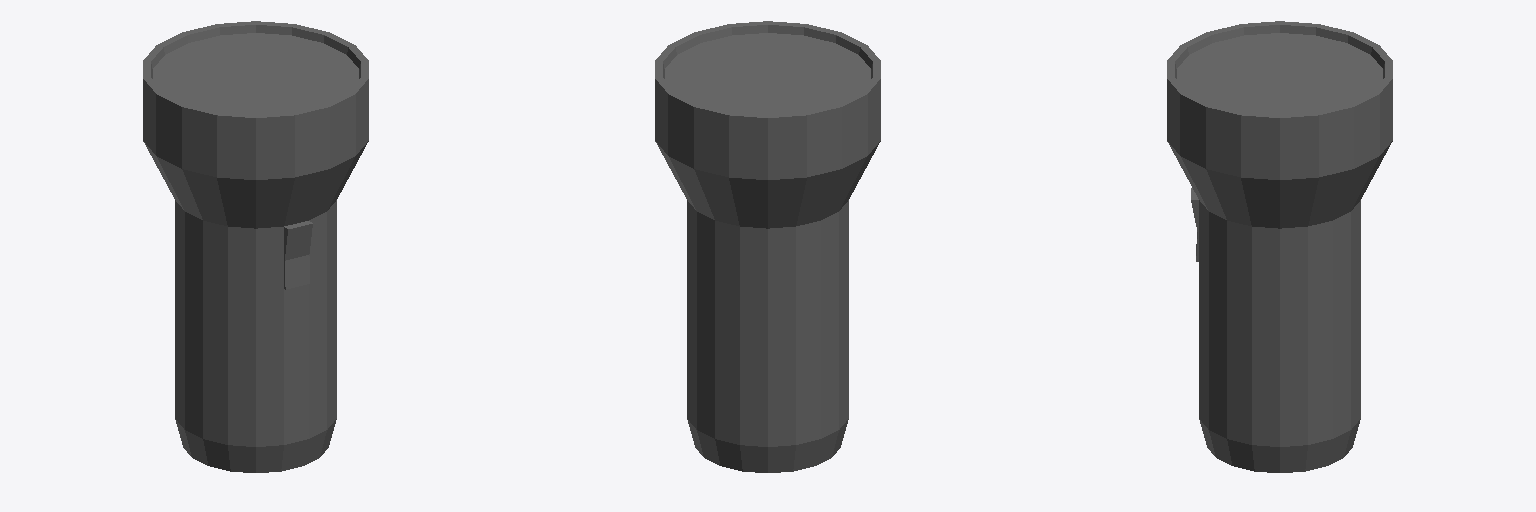
File: Flashlight.obj
The picture shows the model from 3 angles: view 1: azimuth 30°, elevation 25°; view 2: azimuth 150°, elevation 25°; view 3: azimuth 270°, elevation 25°; orthographic projection.
Visible parts, largest first — view 1: Flashlight; view 2: Flashlight; view 3: Flashlight.
Part boxes in pixels (left/top/right/bottom): Flashlight: left=143, top=21, right=368, bottom=472; Flashlight: left=655, top=21, right=880, bottom=472; Flashlight: left=1167, top=21, right=1392, bottom=472.
Bounding box in the file's own units: 5.51 × 9.84 × 5.42.